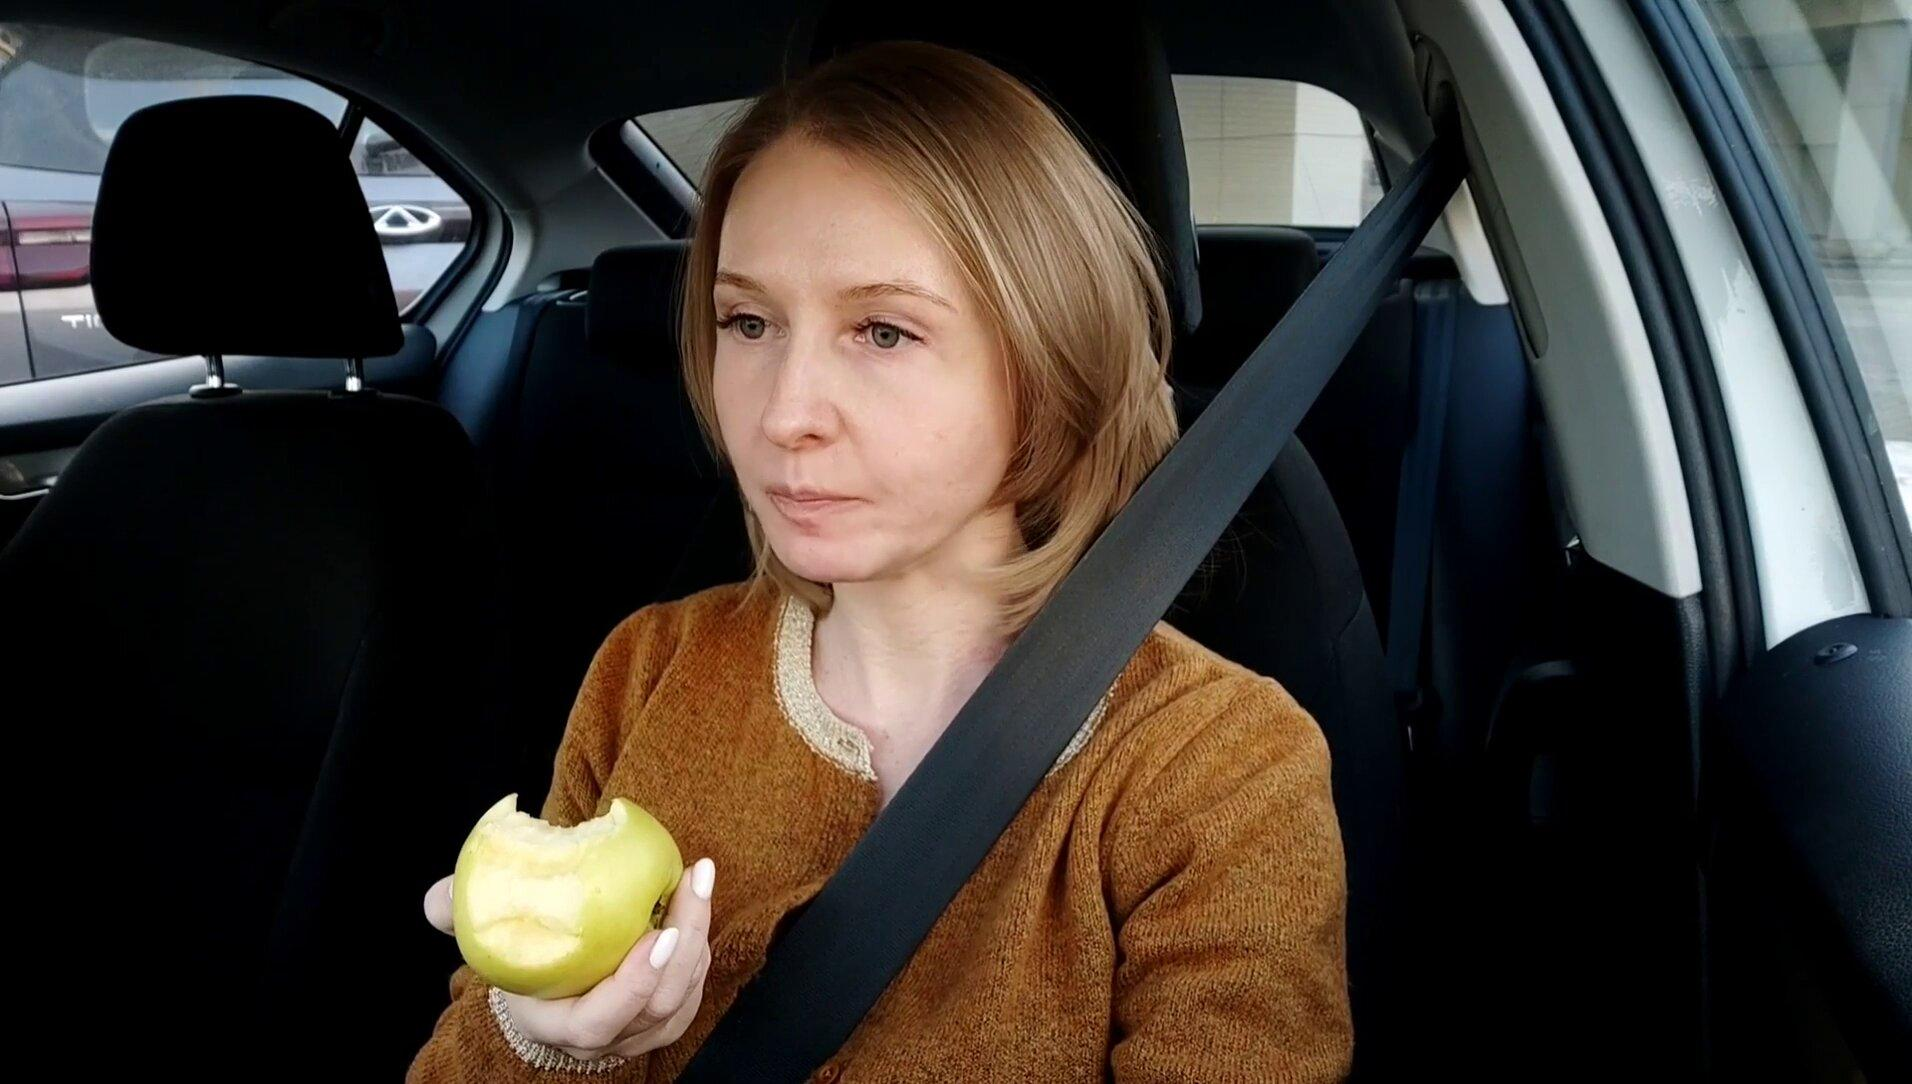Eating: (448, 787, 692, 1005)
